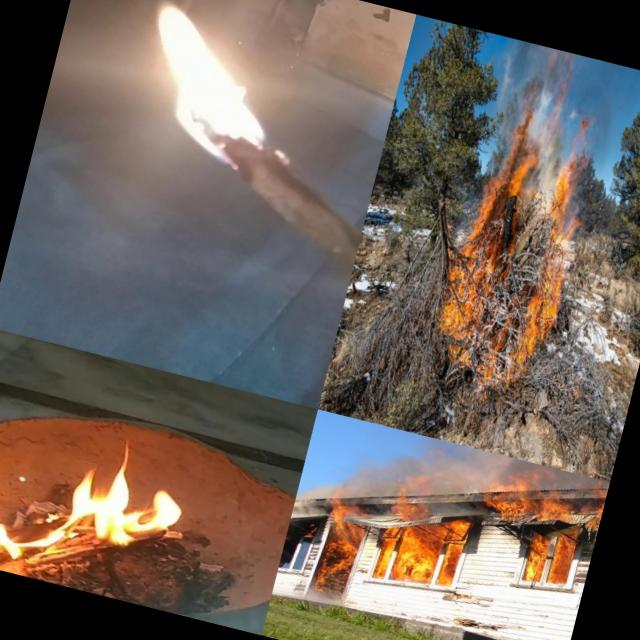fire: (0, 429, 196, 611), (111, 0, 297, 175), (436, 152, 530, 348), (366, 483, 472, 600), (486, 455, 610, 542), (505, 260, 572, 394), (301, 494, 375, 600), (539, 165, 593, 250), (514, 528, 580, 594), (565, 110, 597, 170)
smoke: (334, 416, 491, 504), (482, 38, 582, 170), (567, 56, 640, 139), (508, 165, 556, 262), (577, 127, 623, 177)
